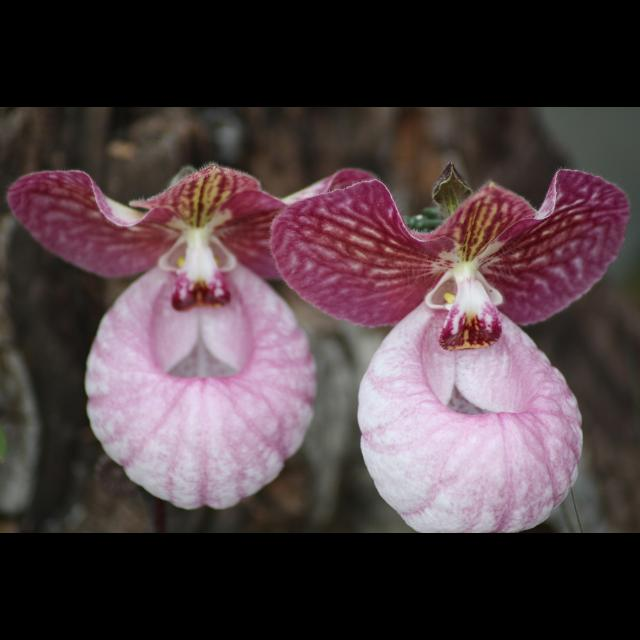Flower: (267, 171, 628, 534), (4, 164, 380, 510)
